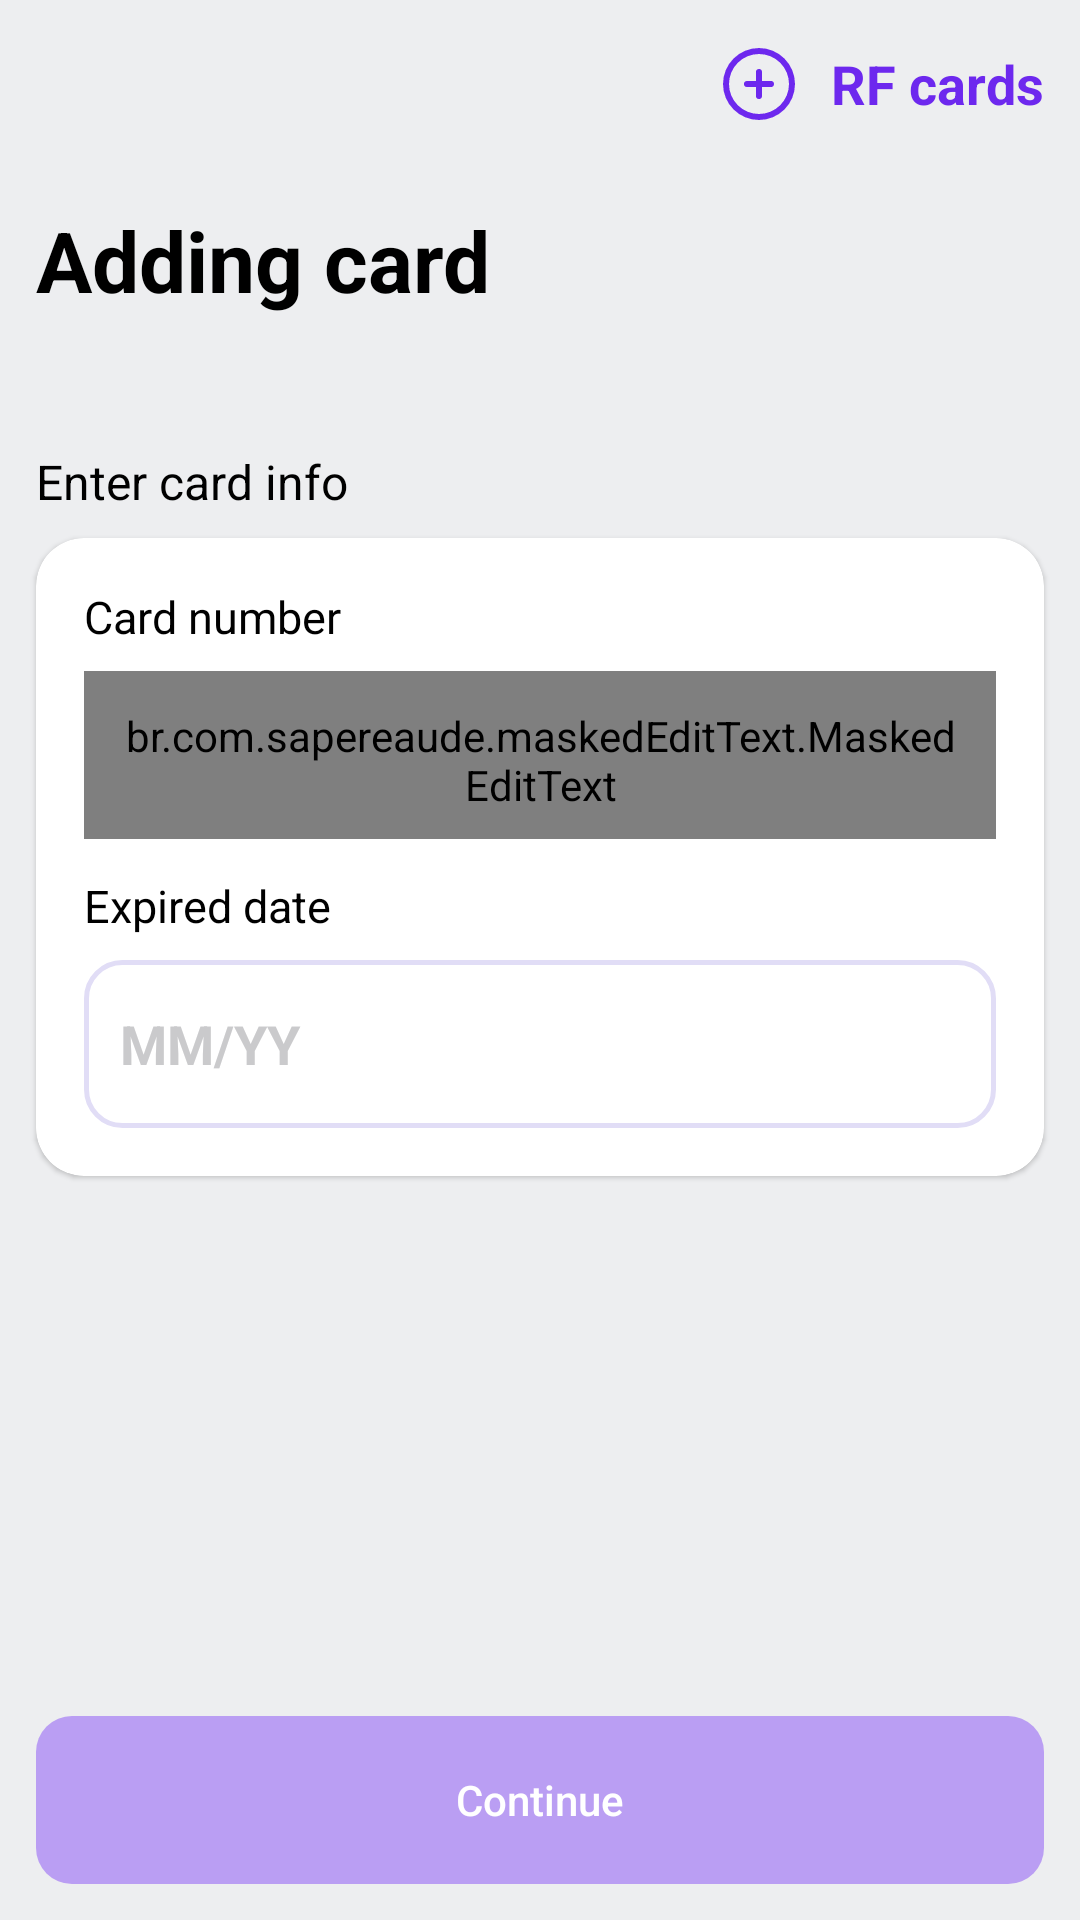

Icons on this 1080×1920 Android screen, each with its box as (x1, y1, x2, y2):
add: (723, 48, 795, 120)
